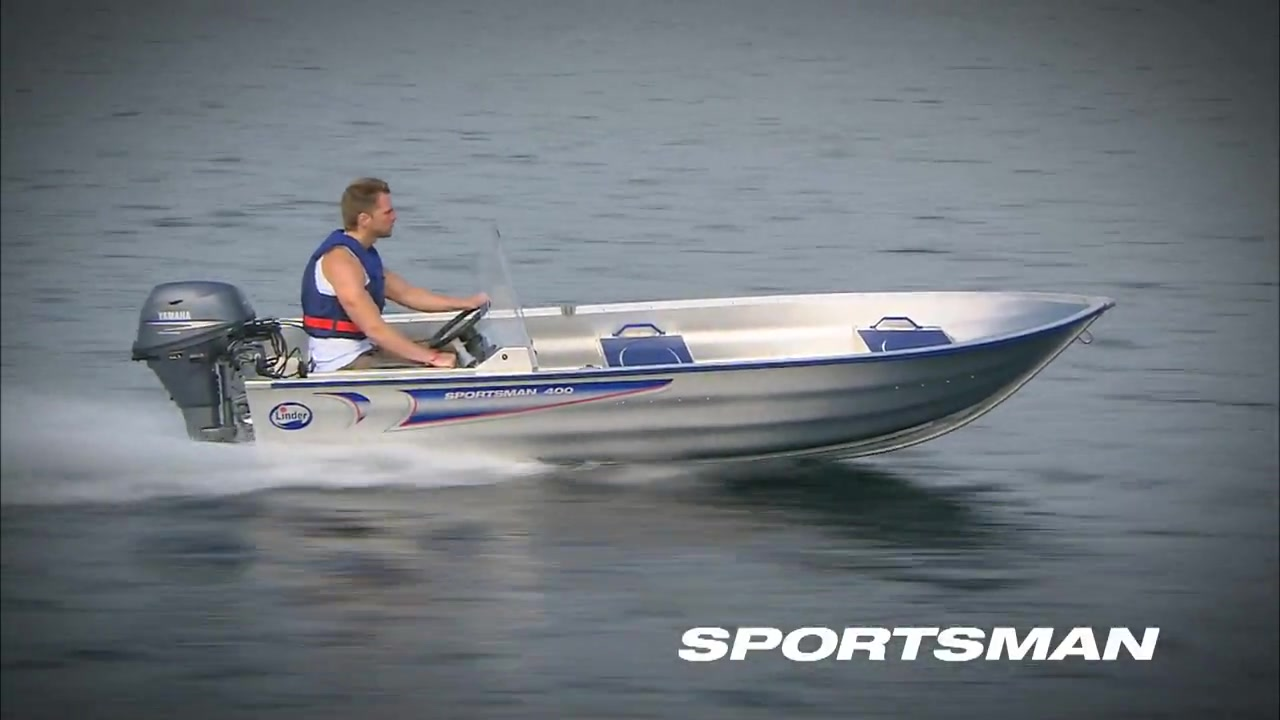boat: (128, 210, 1115, 495)
